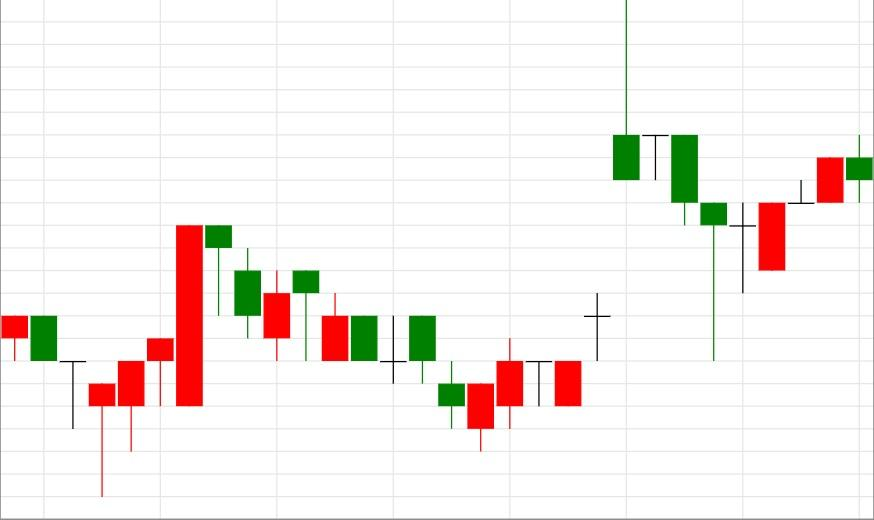hammer_rise: (0, 314, 116, 497)
hanging_man_fall: (88, 224, 233, 498)
shooting_star_fall: (468, 0, 640, 451)
